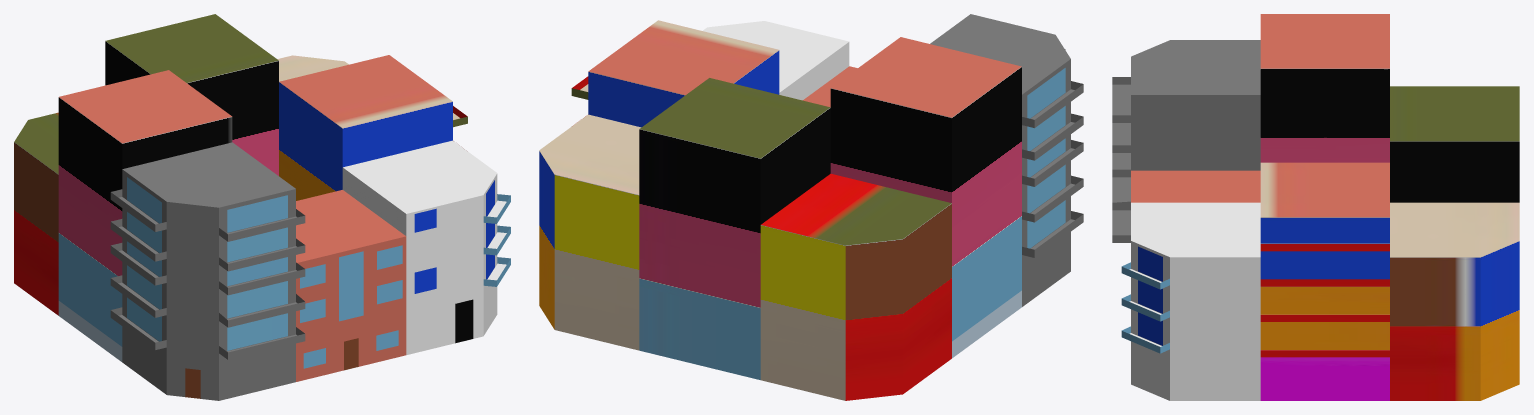
The model's file is BuildingCluster 1.fbx.
3 views of the same model, side by side, from view 1: azimuth 30°, elevation 25°; view 2: azimuth 150°, elevation 25°; view 3: azimuth 270°, elevation 25° (orthographic). The views are drawn at different scales.
Visible parts, largest first — view 1: Buildings 1 Sub3; view 2: Buildings 1 Sub3; view 3: Buildings 1 Sub3.
Boxes of the visible parts, left/top/right/bottom form: Buildings 1 Sub3: left=14, top=14, right=510, bottom=400; Buildings 1 Sub3: left=539, top=14, right=1083, bottom=400; Buildings 1 Sub3: left=1112, top=14, right=1519, bottom=400.
Bounding box in the file's own units: 1862 × 1090 × 1806.
